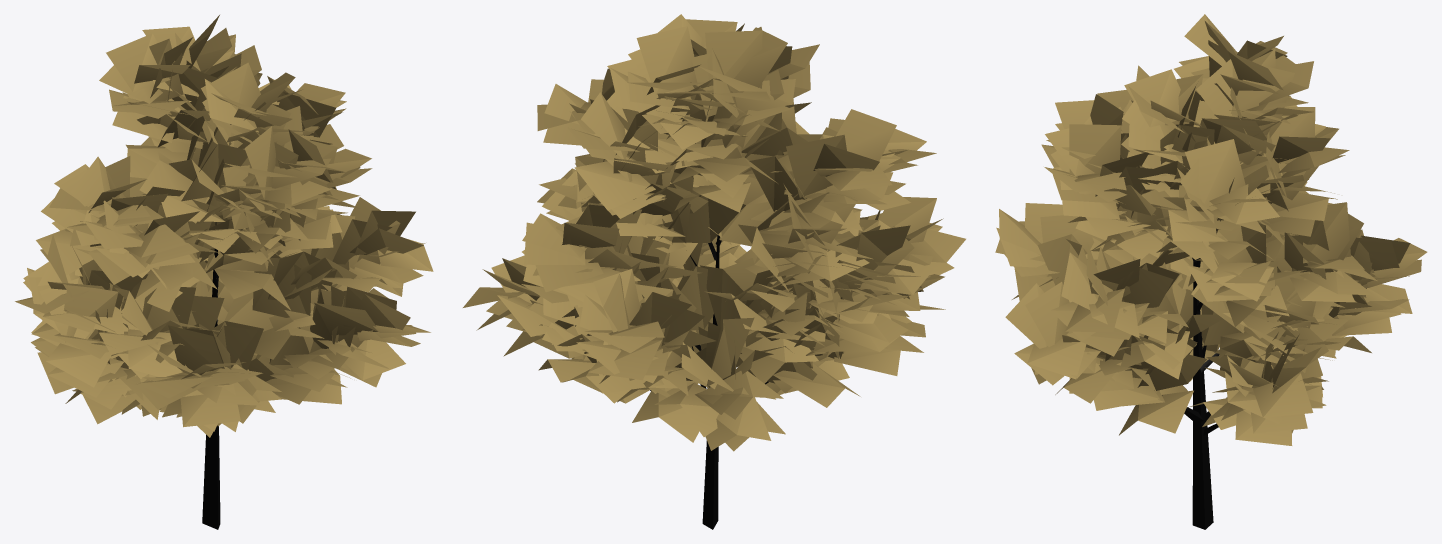
The picture shows the model from 3 angles, left to right: view 1: azimuth 30°, elevation 25°; view 2: azimuth 150°, elevation 25°; view 3: azimuth 270°, elevation 25°; orthographic projection. The views are drawn at different scales.
Parts seen in each view (by area): view 1: Tree_A_LOD2; view 2: Tree_A_LOD2; view 3: Tree_A_LOD2.
Part boxes in pixels (x1,y1,x2,y2): Tree_A_LOD2: (15,15,433,529); Tree_A_LOD2: (463,14,965,529); Tree_A_LOD2: (995,14,1427,529).
Bounding box in the file's own units: 740 × 885 × 719.
